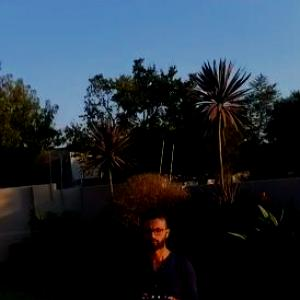follow: (122, 201, 202, 299)
